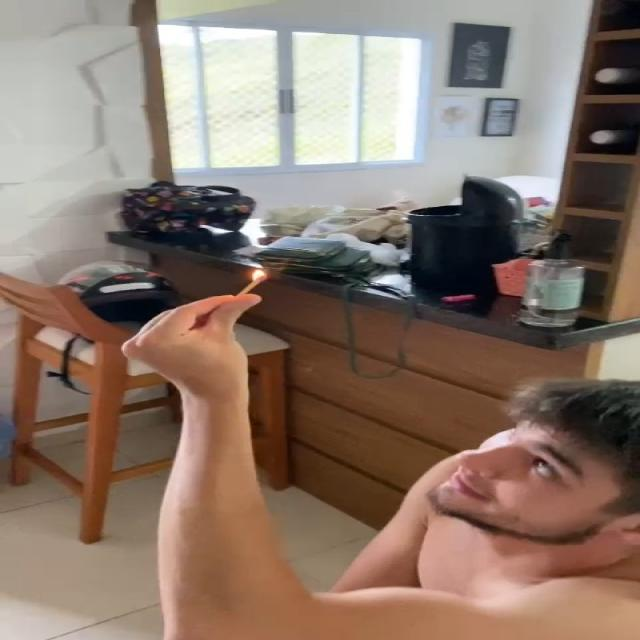fogo-ypXI: (247, 268, 270, 283)
